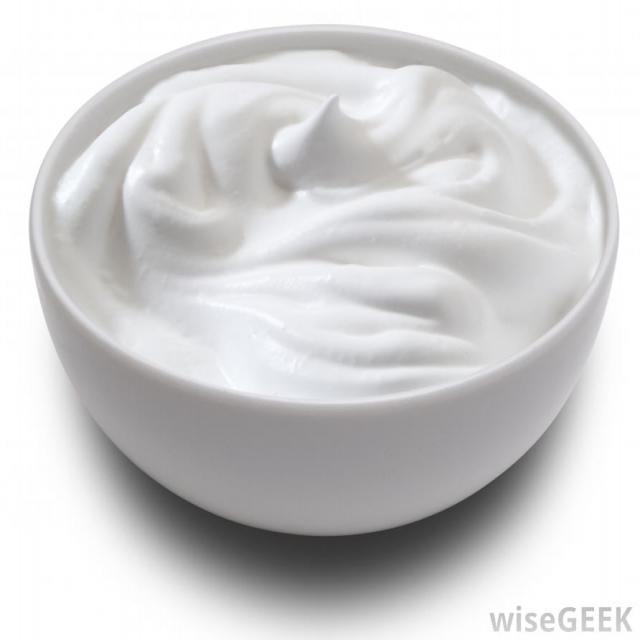yogurt: (34, 24, 616, 542)
